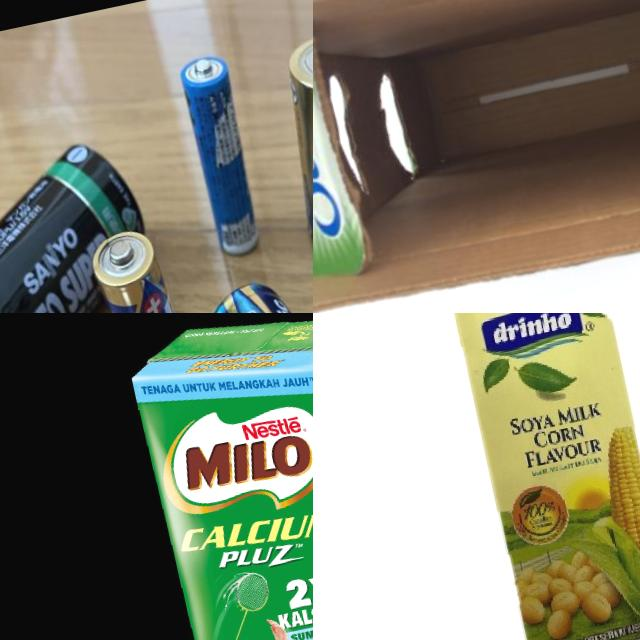bateria: (0, 123, 178, 313), (170, 45, 280, 268), (84, 216, 220, 313), (263, 18, 313, 271)
caixinha: (452, 313, 640, 640), (126, 313, 313, 640)
papelão: (313, 0, 640, 313)
